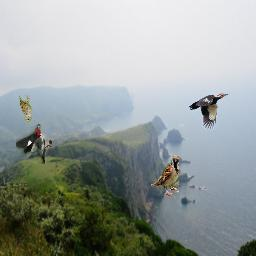Sparrow: (151, 156, 179, 196), (19, 94, 32, 122)
Woodpecker: (189, 93, 229, 130), (16, 124, 52, 164)
